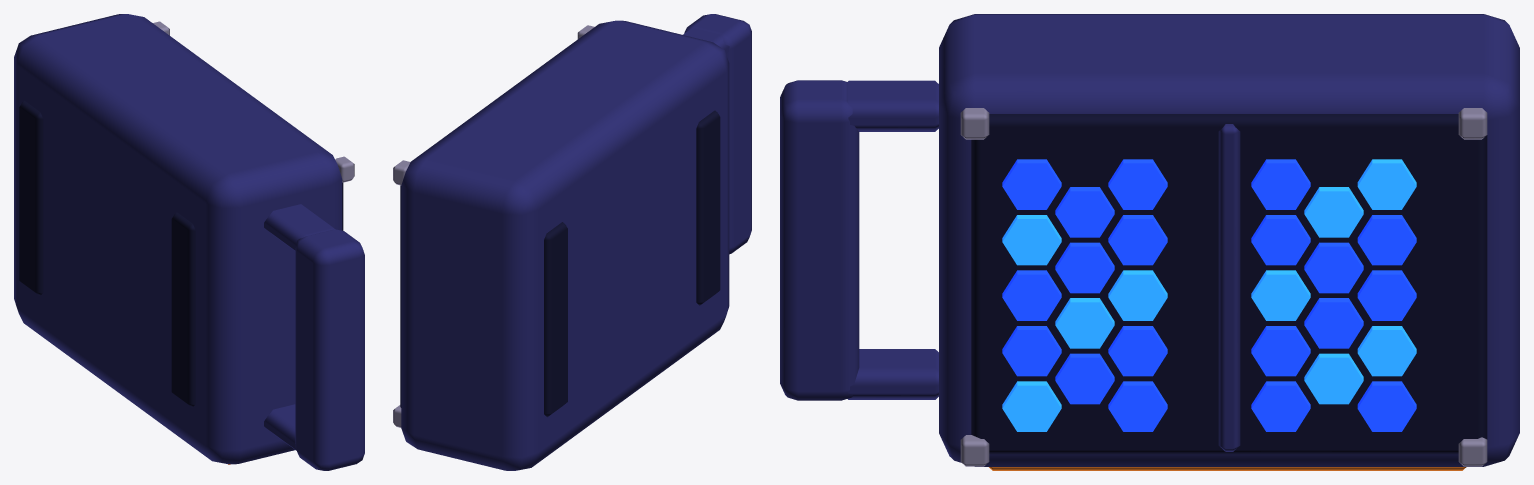
The model's file is shield_pack.glb.
3 views of the same model, side by side, from view 1: azimuth 30°, elevation 25°; view 2: azimuth 150°, elevation 25°; view 3: azimuth 270°, elevation 25° (orthographic). The views are drawn at different scales.
Visible parts, largest first — view 1: item.shield_pack.body; view 2: item.shield_pack.body; view 3: item.shield_pack.body.
Part boxes in pixels (x1,y1,x2,y2): item.shield_pack.body: (14,14,364,470); item.shield_pack.body: (393,14,751,470); item.shield_pack.body: (780,14,1519,470).
Size of the model in its own units: 0.2053 by 0.3844 by 0.6406.
